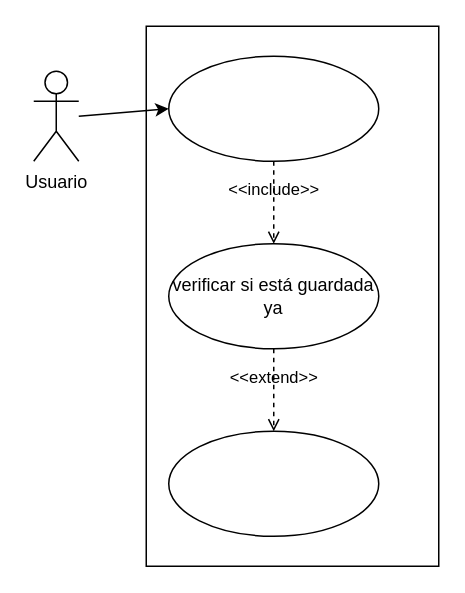
This 465x593 diagram has some shape labels left out. Each missing label, with the centre of its shape:
guardar: the point at 273,483
seleccionar receta: the point at 273,108
